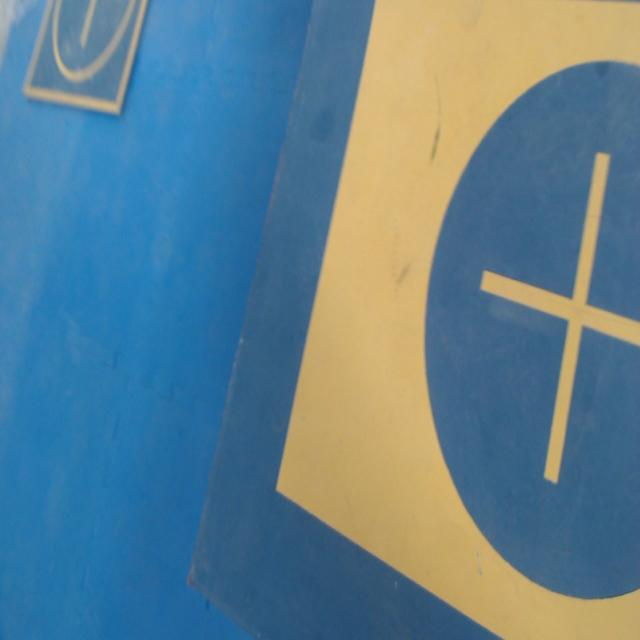base_inicio: (276, 0, 640, 639)
base_pouso: (22, 0, 149, 117)
